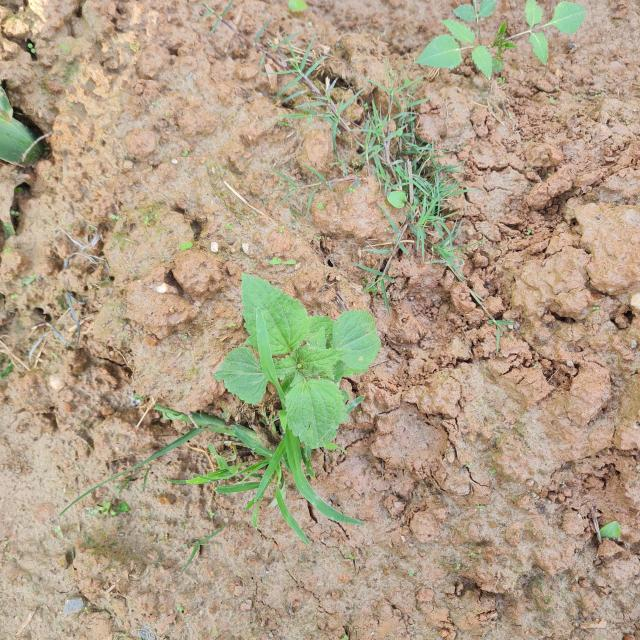weed: (237, 21, 476, 286), (105, 411, 367, 558), (212, 262, 386, 444), (381, 0, 611, 89), (592, 516, 628, 542)
